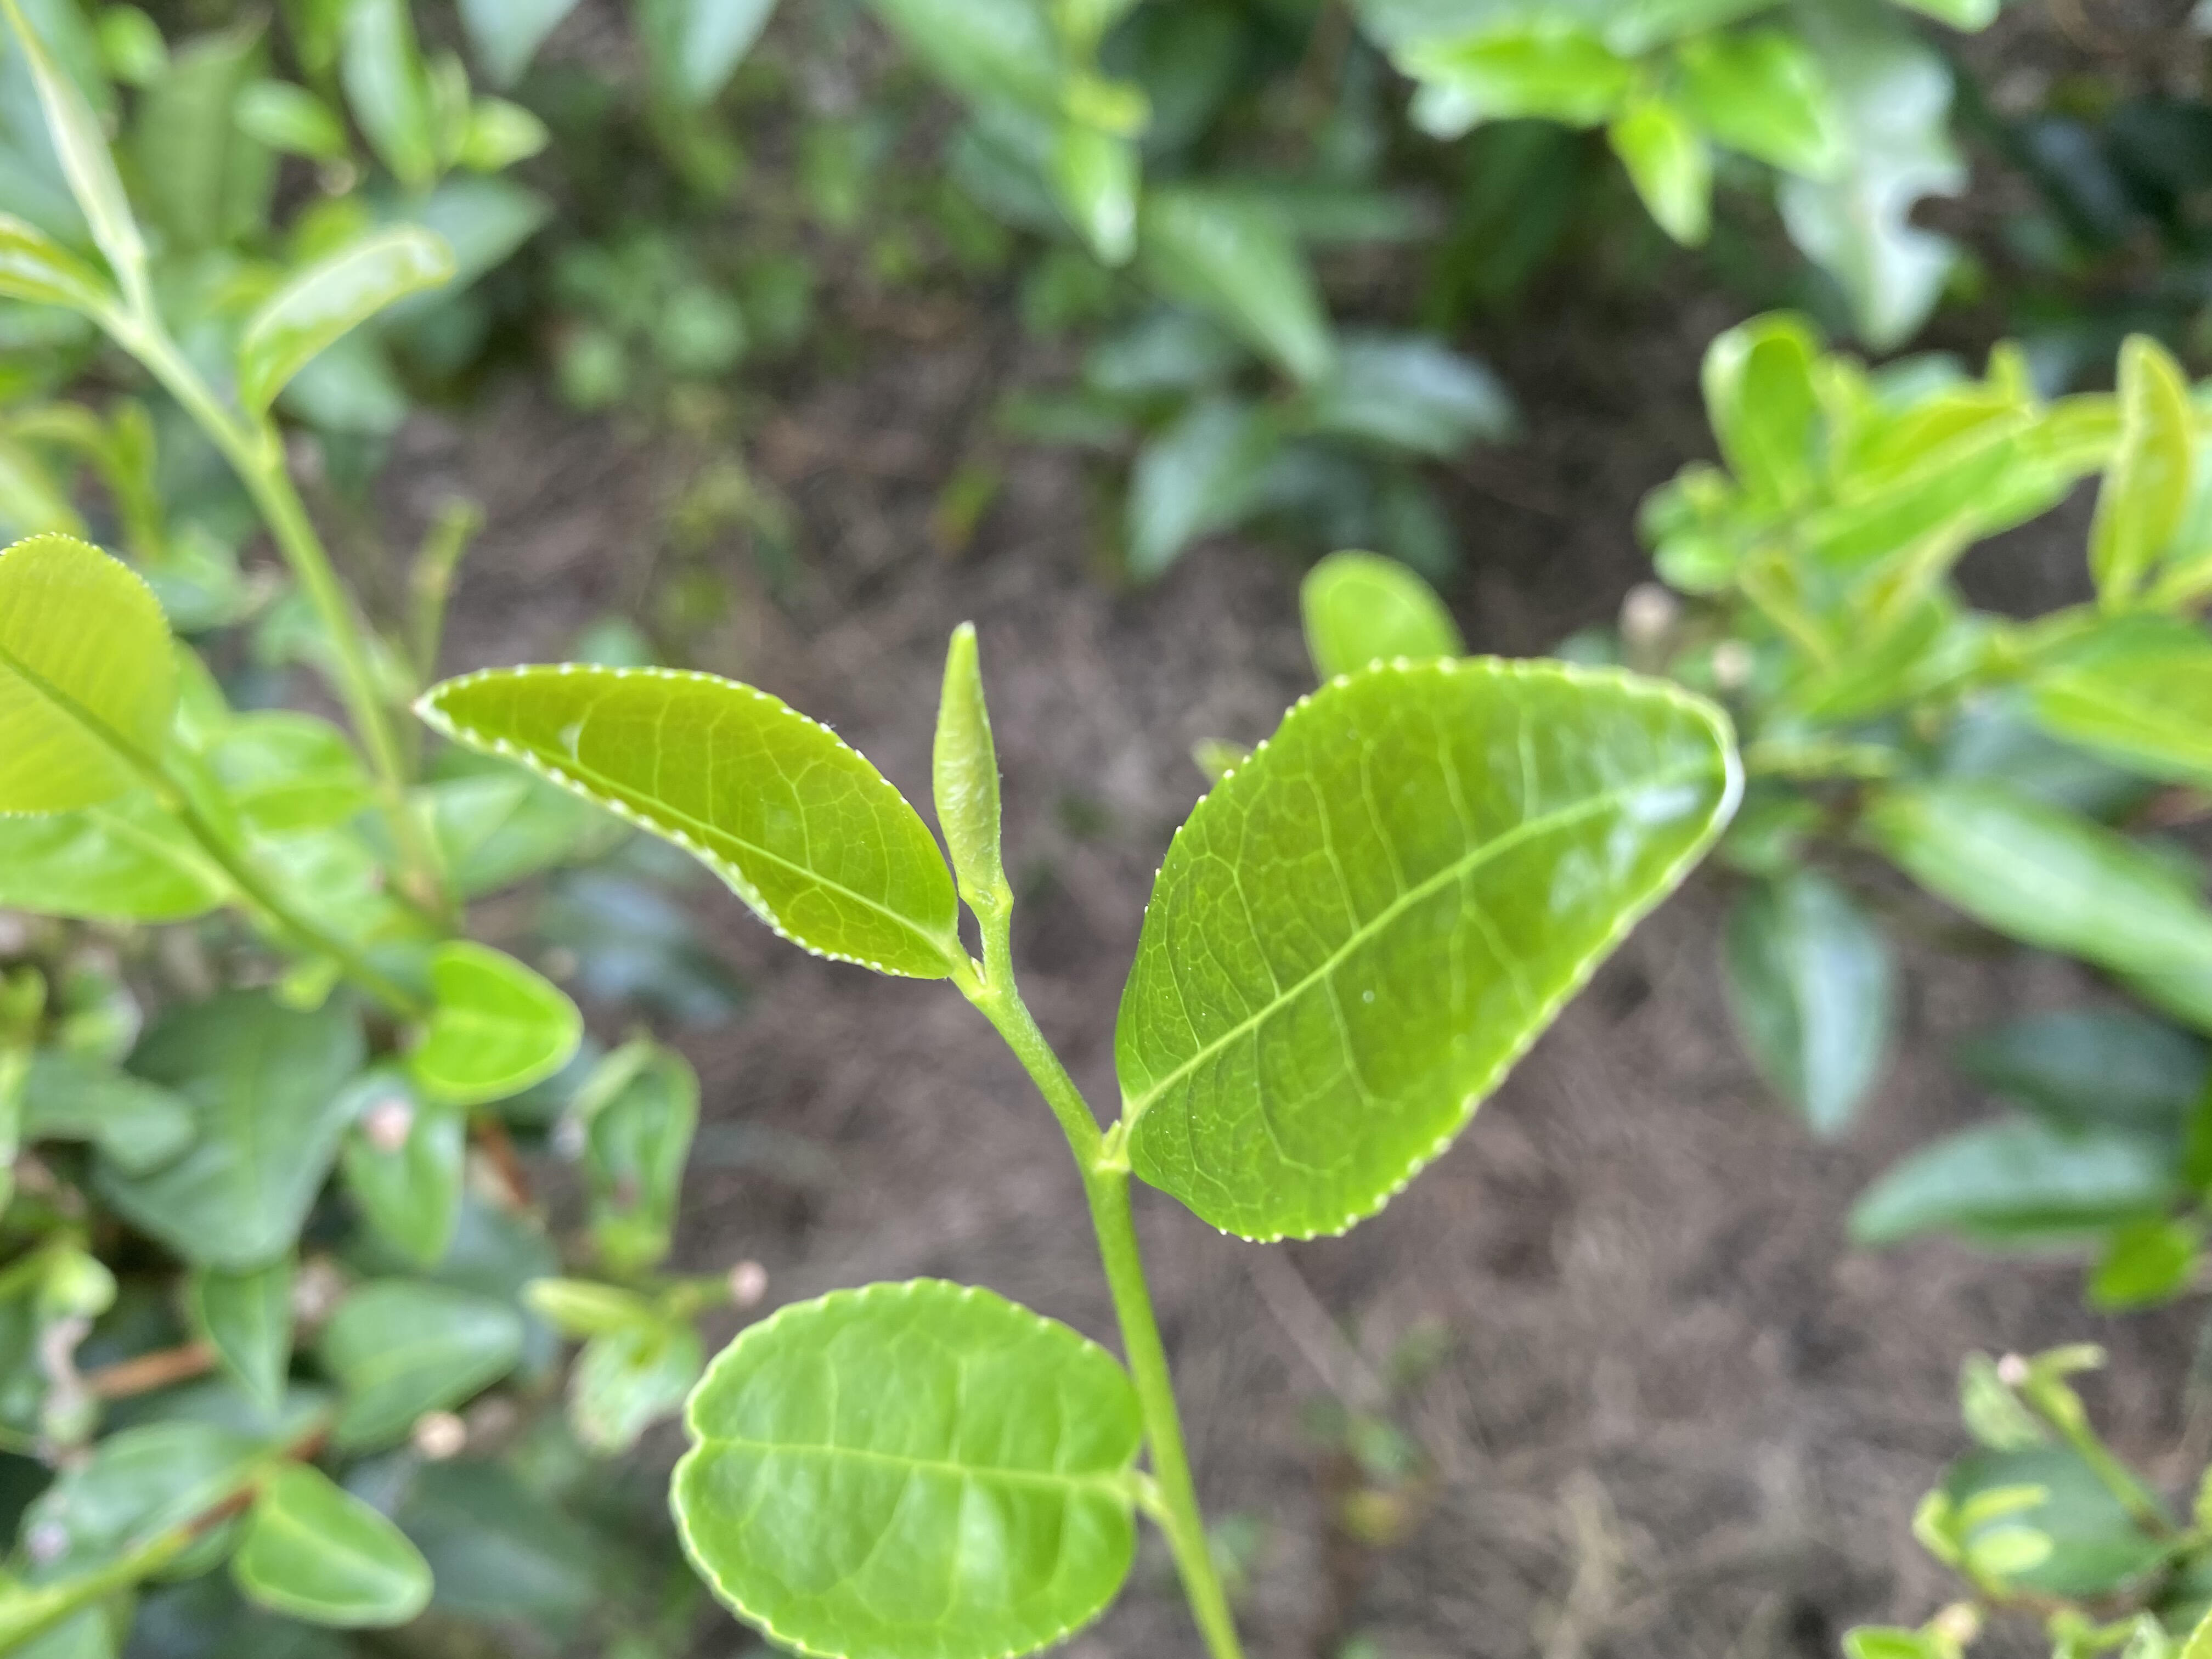healthy: (1104, 655, 1743, 1249), (658, 1277, 1144, 1659), (413, 659, 963, 979)
